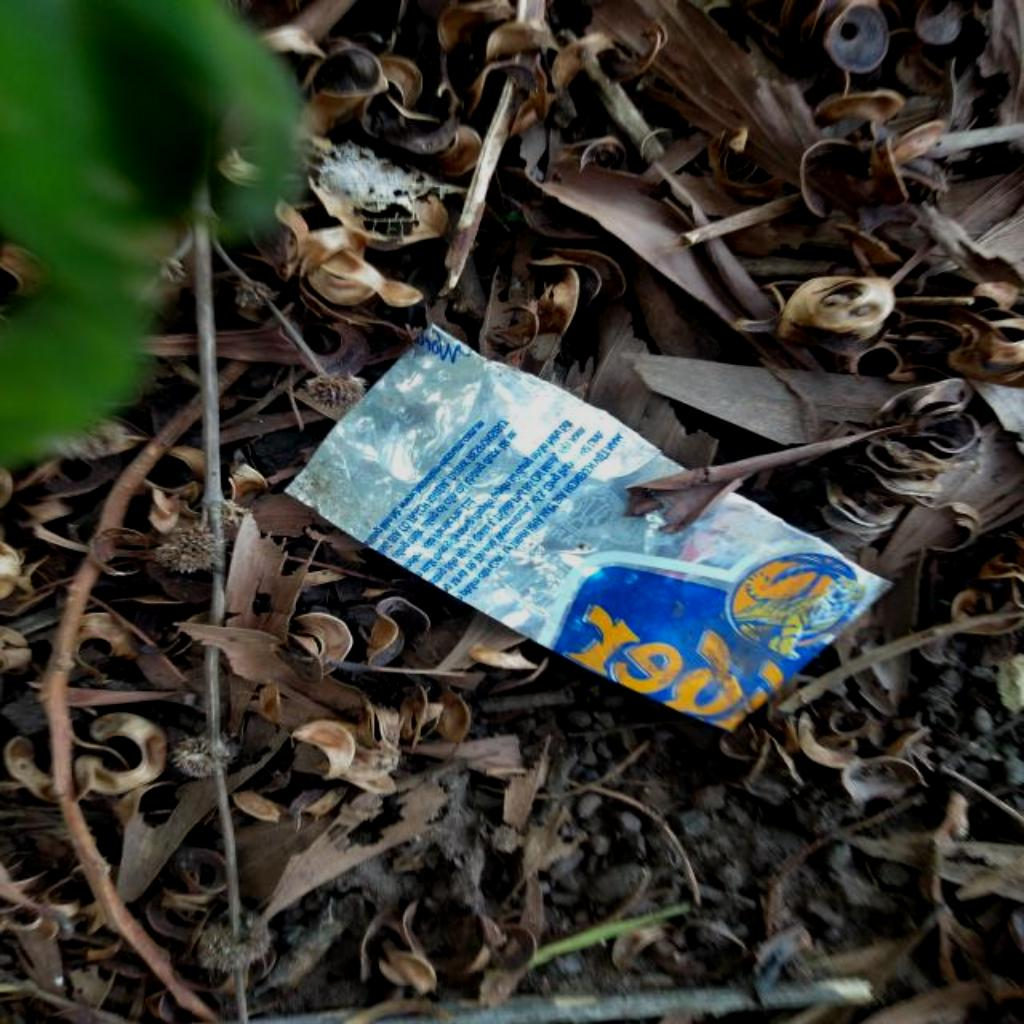garbage: (285, 329, 886, 730)
